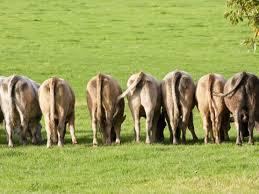cow: (0, 73, 40, 149), (120, 71, 161, 145), (158, 71, 197, 145), (37, 78, 78, 148), (86, 73, 124, 147), (223, 74, 259, 148), (194, 73, 228, 145)
